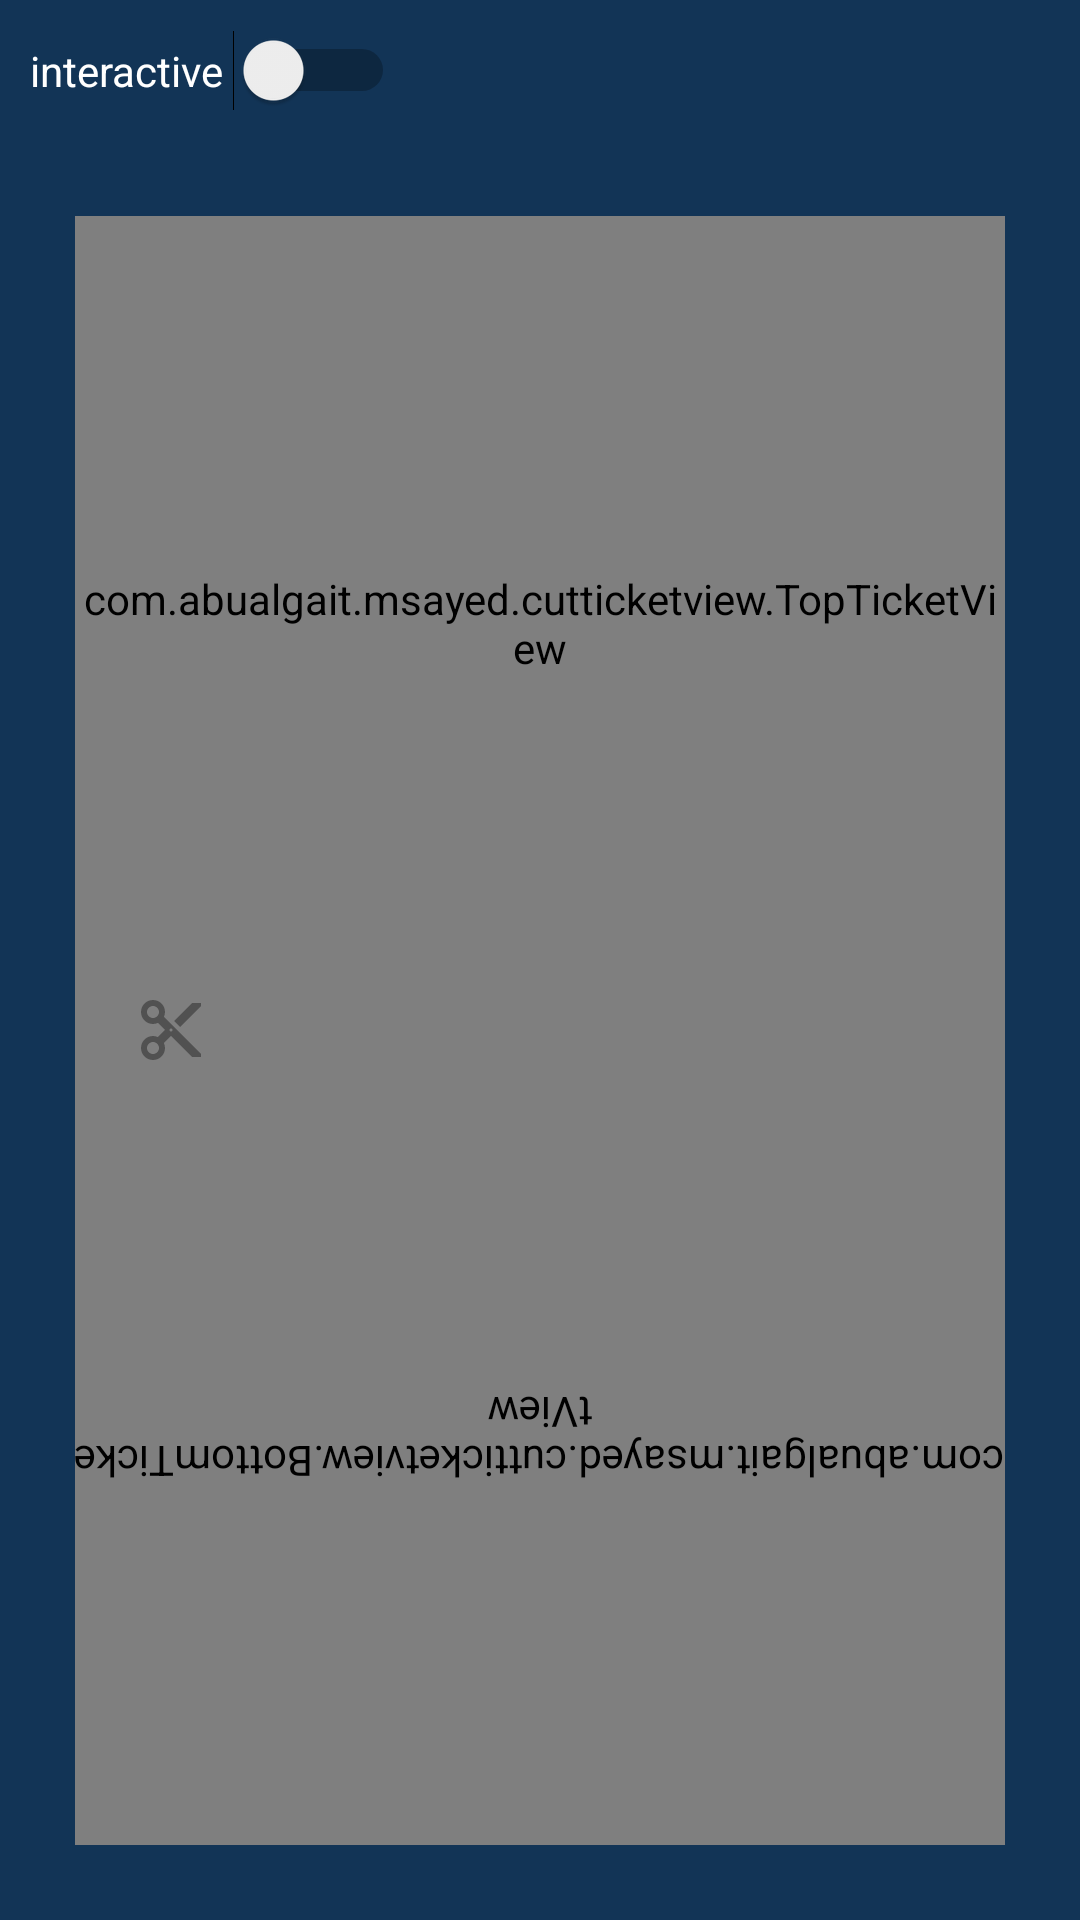

Point at icon controls on the screen. Image size 1080×1920, points as point (x, y).
content cut: point (171, 1030)
